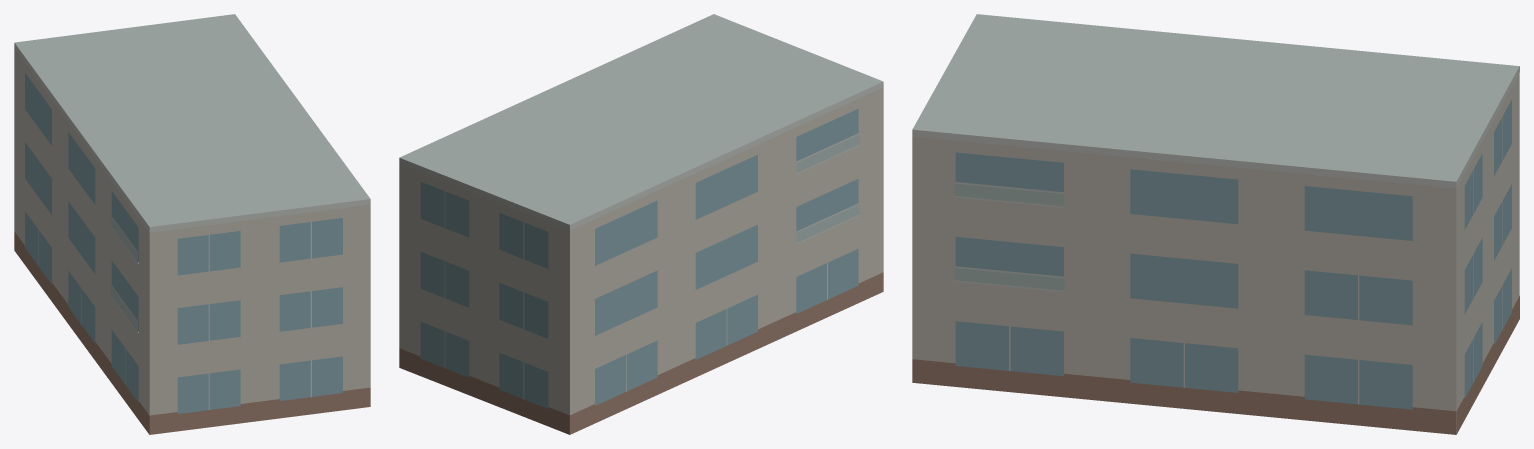
File: survey-upis-32754457.glb
The picture shows the model from 3 angles, left to right: view 1: azimuth 30°, elevation 25°; view 2: azimuth 150°, elevation 25°; view 3: azimuth 270°, elevation 25°; orthographic projection. The views are drawn at different scales.
Parts seen in each view (by area): view 1: survey-upis-32754457.tmp; view 2: survey-upis-32754457.tmp; view 3: survey-upis-32754457.tmp.
Boxes of the visible parts, <box> form: survey-upis-32754457.tmp: <box>14,14,370,434</box>; survey-upis-32754457.tmp: <box>399,14,883,434</box>; survey-upis-32754457.tmp: <box>912,14,1519,434</box>.
Size of the model in its own units: 13.02 by 9.15 by 19.91.
